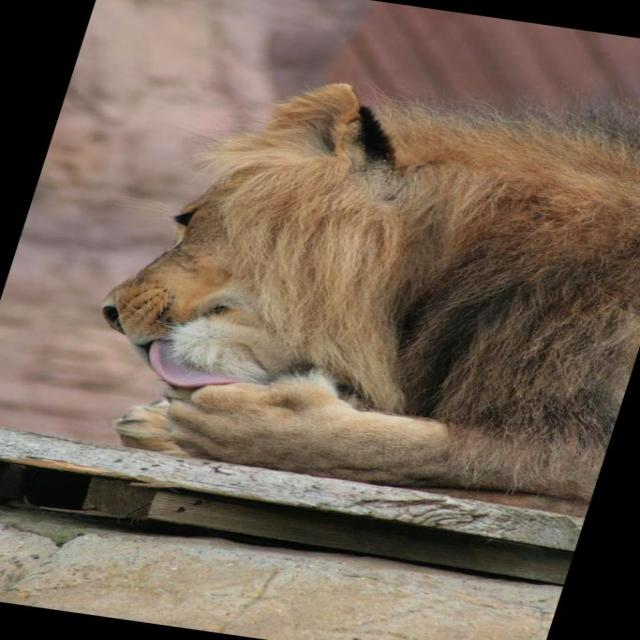Lion: (56, 26, 639, 514)
